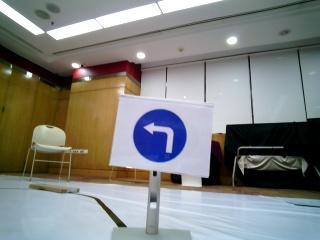left: (125, 99, 199, 169)
